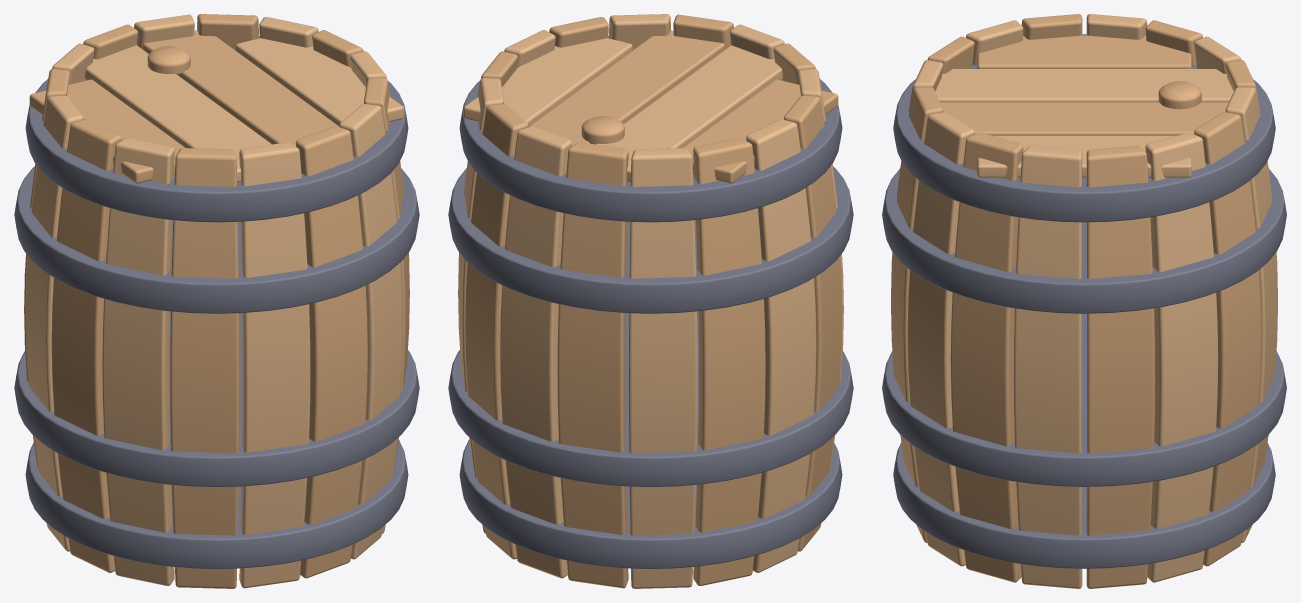
File: barrel.glb
3 views of the same model, side by side, from view 1: azimuth 30°, elevation 25°; view 2: azimuth 150°, elevation 25°; view 3: azimuth 270°, elevation 25° (orthographic).
Visible parts, largest first — view 1: stave10, stave11, stave9, stave12, hoop0.7, hoop0.3, hoop0.9, stave8, hoop0.1, stave13, lid1, lid2 (+13 smaller); view 2: stave5, stave4, stave6, stave3, hoop0.7, hoop0.3, hoop0.9, stave7, hoop0.1, stave2, lid1, lid2 (+13 smaller); view 3: stave0, stave15, stave1, stave14, hoop0.7, hoop0.3, hoop0.9, hoop0.1, stave2, stave13, lid1, lid2 (+13 smaller).
Part boxes in pixels (left/top/right/bottom): stave10: left=170, top=148, right=239, bottom=588; stave11: left=239, top=142, right=310, bottom=588; stave9: left=102, top=137, right=174, bottom=585; stave12: left=296, top=126, right=367, bottom=578; hoop0.7: left=14, top=166, right=419, bottom=313; hoop0.3: left=14, top=311, right=419, bottom=486; hoop0.9: left=25, top=36, right=408, bottom=222; stave8: left=51, top=119, right=121, bottom=572; hoop0.1: left=25, top=440, right=408, bottom=568; stave13: left=339, top=104, right=402, bottom=559; lid1: left=85, top=45, right=271, bottom=182; lid2: left=143, top=30, right=352, bottom=146; stave5: left=628, top=148, right=697, bottom=588; stave4: left=557, top=142, right=628, bottom=588; stave6: left=693, top=137, right=765, bottom=585; stave3: left=500, top=126, right=571, bottom=578; hoop0.7: left=448, top=166, right=853, bottom=313; hoop0.3: left=448, top=311, right=853, bottom=486; hoop0.9: left=459, top=36, right=842, bottom=222; stave7: left=746, top=119, right=816, bottom=572; hoop0.1: left=459, top=440, right=842, bottom=568; stave2: left=465, top=104, right=528, bottom=559; lid1: left=596, top=45, right=782, bottom=182; lid2: left=515, top=30, right=724, bottom=146; stave0: left=1086, top=145, right=1155, bottom=588; stave15: left=1013, top=145, right=1082, bottom=588; stave1: left=1145, top=132, right=1218, bottom=582; stave14: left=950, top=132, right=1023, bottom=582; hoop0.7: left=882, top=168, right=1286, bottom=313; hoop0.3: left=882, top=313, right=1286, bottom=486; hoop0.9: left=893, top=34, right=1275, bottom=222; hoop0.1: left=893, top=443, right=1275, bottom=568; stave2: left=1194, top=112, right=1261, bottom=566; stave13: left=907, top=112, right=974, bottom=566; lid1: left=935, top=69, right=1233, bottom=102; lid2: left=940, top=102, right=1228, bottom=135.
Size of the model in its own units: 0.8477 by 1 by 0.8477.
